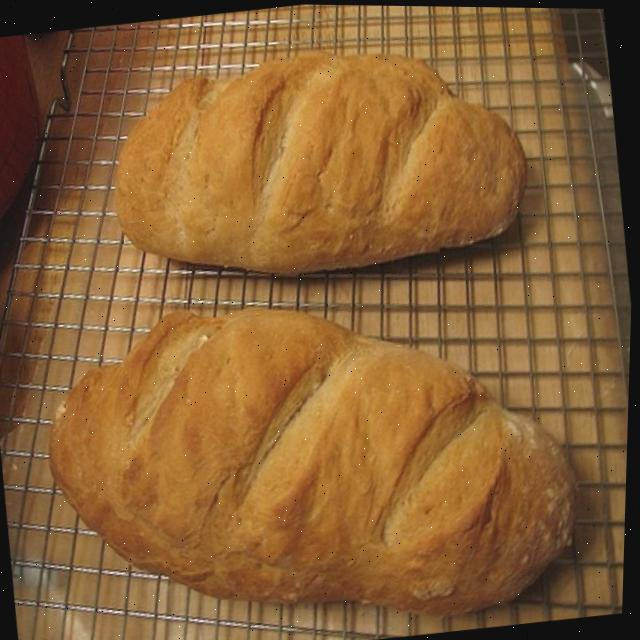面包点心: (2, 0, 640, 640)
